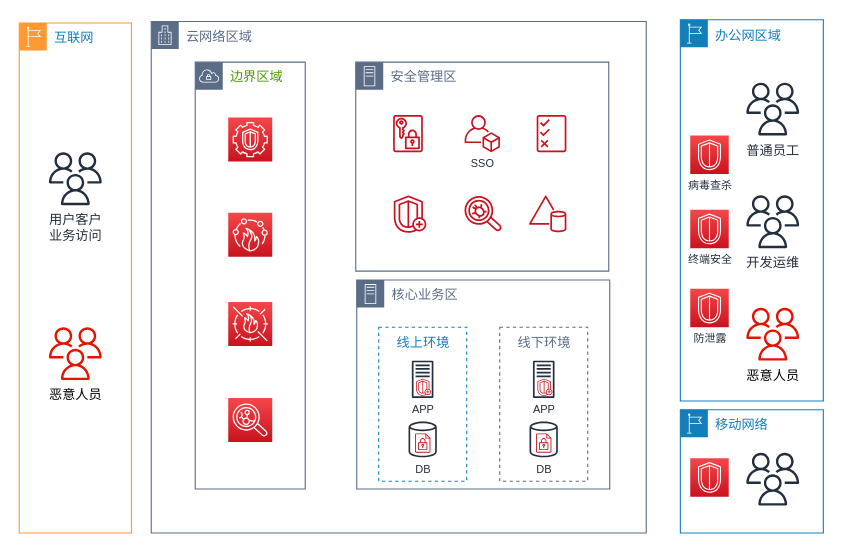
The diagram is 843 pixels wide and 552 high, and some of its shapes have lost their labels. Each missing label, with the centre of its shape:
"DDoS防护" belongs at (x=249, y=139).
"IDS入侵检测" belongs at (x=249, y=419).
"WAF防护" belongs at (x=249, y=323).
"主机安全" belongs at (x=551, y=133).
"堡垒机" belongs at (x=409, y=213).
"安全运营中心" belongs at (x=407, y=133).
"扫描器" belongs at (x=482, y=213).
"监控审计" belongs at (x=547, y=213).
"远程员工" belongs at (x=772, y=478).
"防火墙" belongs at (x=249, y=234).
"零信任 保护" belongs at (x=709, y=477).
